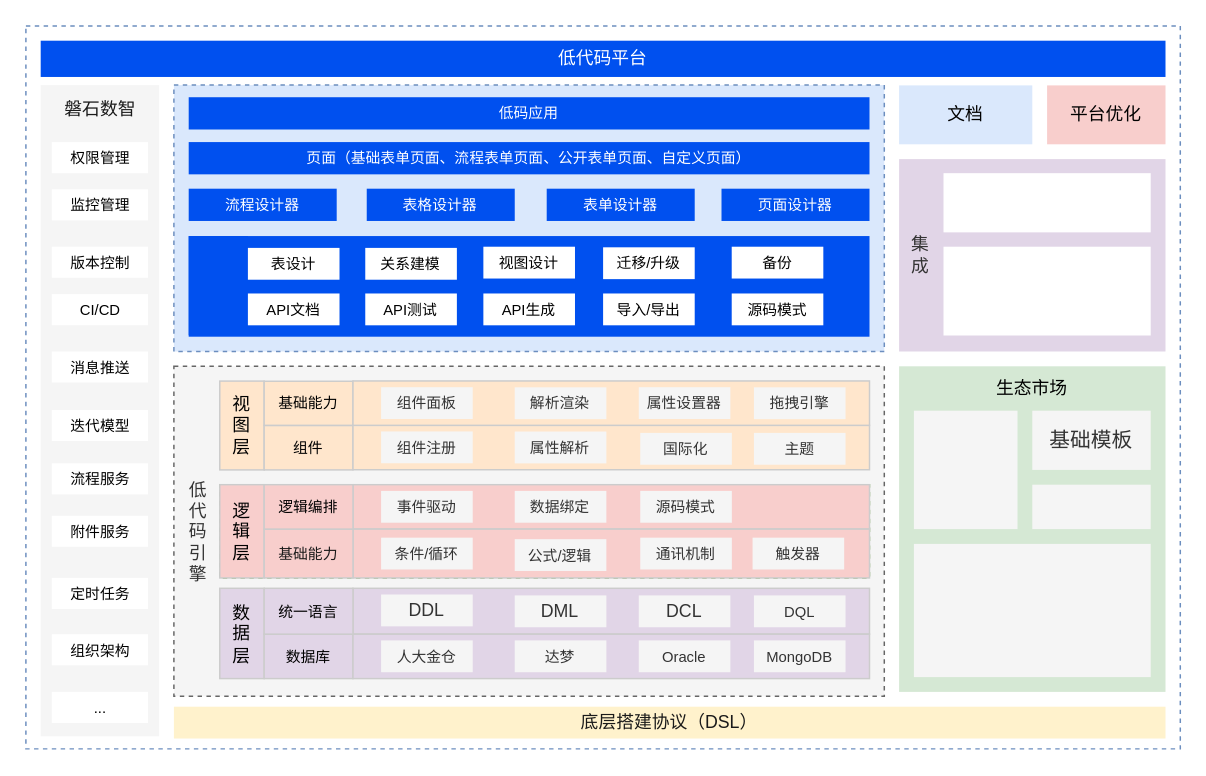
Some shapes in this 1206 by 776 pixel diagram are drawn without their labels. The shapes that lost their labels are listed below. From the top down, each one's box as (x1, y1, x2, y2) in pixels, then its label:
(943, 172, 1150, 232): 微前端集成 CLI、DevOps平台
(188, 235, 247, 334): 数 据 建 模
(943, 246, 1150, 335): 微服务集 成 OAuth 认证和授权、服务注册、服务编排、部署
(913, 410, 1017, 528): 业务模板 合同管理 数据采集 出差申请
(1032, 484, 1150, 528): 数据模型
(913, 543, 1150, 676): 组件 布局、表单、表格、流程、图表、按钮、图标、弹窗、列表、抽屉、输入控件、选择控件、菜单、面包屑、时间轴...
